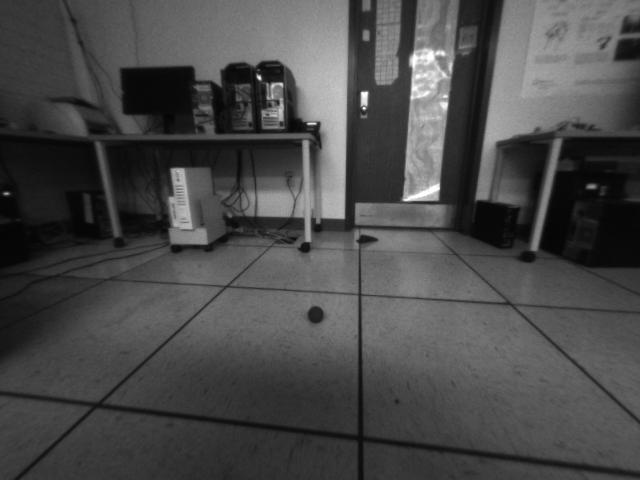dogtoy: (305, 299, 333, 329)
